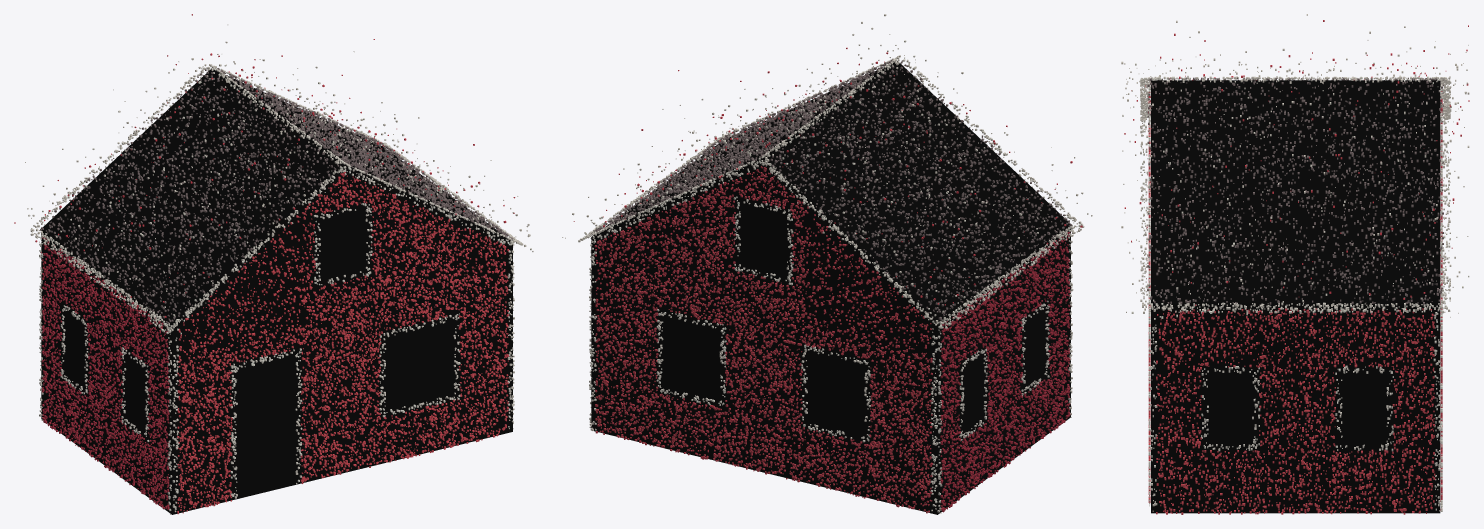
The model's file is red-particle-house.glb.
3 views of the same model, side by side, from view 1: azimuth 30°, elevation 25°; view 2: azimuth 150°, elevation 25°; view 3: azimuth 270°, elevation 25° (orthographic). The views are drawn at different scales.
Parts seen in each view (by area): view 1: House_shadow_volume, Front_red_particles, Left_red_particles, Roof_left_charcoal_particles, Roof_right_charcoal_particles, Front_ivory_particles, Floating_roof_particles, Roof_left_ivory_particles, Left_ivory_particles, Roof_right_ivory_particles; view 2: House_shadow_volume, Back_red_particles, Left_red_particles, Roof_left_charcoal_particles, Roof_right_charcoal_particles, Back_ivory_particles, Floating_roof_particles, Roof_left_ivory_particles, Left_ivory_particles, Roof_right_ivory_particles; view 3: House_shadow_volume, Right_red_particles, Roof_right_charcoal_particles, Roof_right_ivory_particles, Floating_roof_particles, Right_ivory_particles, Roof_left_ivory_particles, Front_ivory_particles, Back_ivory_particles, Back_red_particles, Front_red_particles, Roof_left_charcoal_particles.
Boxes of the visible parts, x1=… form: House_shadow_volume: x1=41, y1=69, x2=512, y2=514; Front_red_particles: x1=177, y1=172, x2=509, y2=514; Left_red_particles: x1=41, y1=237, x2=169, y2=509; Roof_left_charcoal_particles: x1=40, y1=69, x2=340, y2=323; Roof_right_charcoal_particles: x1=217, y1=68, x2=513, y2=239; Front_ivory_particles: x1=172, y1=166, x2=513, y2=512; Floating_roof_particles: x1=14, y1=14, x2=533, y2=334; Roof_left_ivory_particles: x1=30, y1=64, x2=344, y2=333; Left_ivory_particles: x1=39, y1=231, x2=172, y2=514; Roof_right_ivory_particles: x1=209, y1=64, x2=526, y2=246; House_shadow_volume: x1=591, y1=61, x2=1070, y2=514; Back_red_particles: x1=594, y1=166, x2=932, y2=513; Left_red_particles: x1=940, y1=232, x2=1070, y2=512; Roof_left_charcoal_particles: x1=767, y1=60, x2=1071, y2=320; Roof_right_charcoal_particles: x1=590, y1=59, x2=892, y2=234; Back_ivory_particles: x1=589, y1=160, x2=938, y2=511; Floating_roof_particles: x1=562, y1=14, x2=1092, y2=329; Roof_left_ivory_particles: x1=761, y1=57, x2=1084, y2=329; Left_ivory_particles: x1=937, y1=224, x2=1073, y2=513; Roof_right_ivory_particles: x1=578, y1=55, x2=900, y2=242; House_shadow_volume: x1=1151, y1=80, x2=1440, y2=513; Right_red_particles: x1=1156, y1=308, x2=1435, y2=514; Roof_right_charcoal_particles: x1=1147, y1=80, x2=1443, y2=304; Roof_right_ivory_particles: x1=1140, y1=76, x2=1451, y2=313; Floating_roof_particles: x1=1121, y1=14, x2=1469, y2=318; Right_ivory_particles: x1=1150, y1=302, x2=1441, y2=511; Roof_left_ivory_particles: x1=1140, y1=76, x2=1451, y2=120; Front_ivory_particles: x1=1148, y1=82, x2=1150, y2=506; Back_ivory_particles: x1=1440, y1=79, x2=1442, y2=511; Back_red_particles: x1=1440, y1=91, x2=1442, y2=510; Front_red_particles: x1=1148, y1=92, x2=1150, y2=502; Roof_left_charcoal_particles: x1=1147, y1=77, x2=1443, y2=116.
Size of the model in its own units: 6.79 by 6.12 by 4.81.
